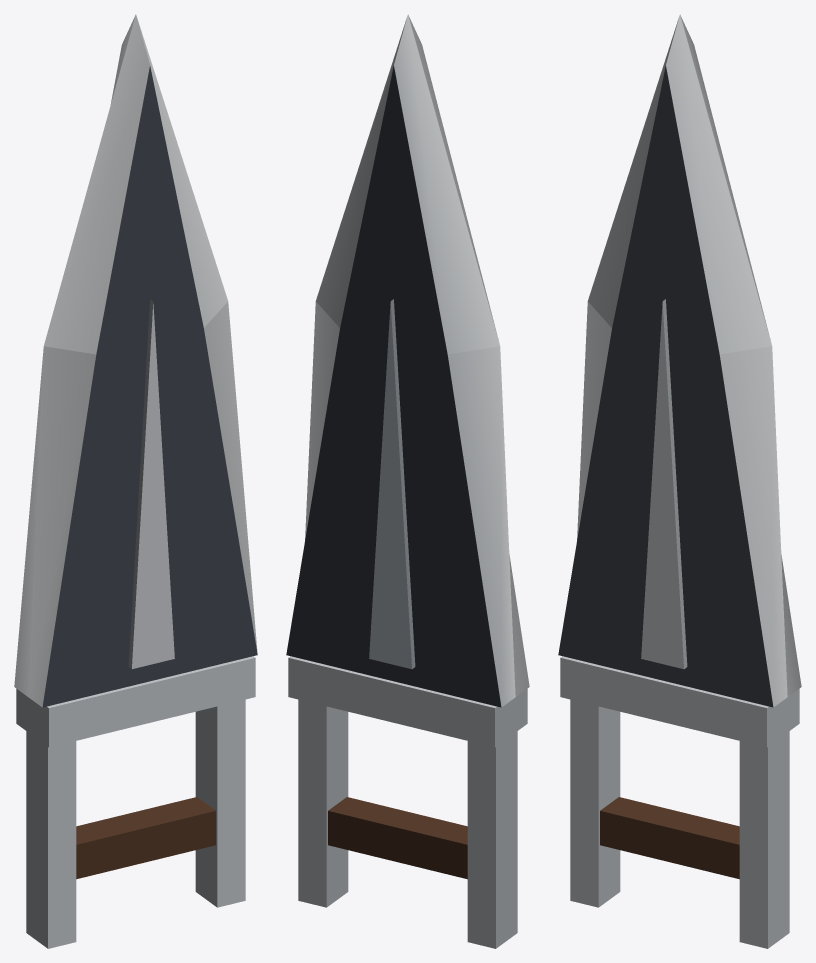
The model's file is rogue_katars_2.gltf.
3 renders of one model, left to right at view 1: azimuth 30°, elevation 25°; view 2: azimuth 150°, elevation 25°; view 3: azimuth 330°, elevation 25°, orthographic.
Parts seen in each view (by area): view 1: rogue_katars_2; view 2: rogue_katars_2; view 3: rogue_katars_2.
Part boxes in pixels (x1=…): rogue_katars_2: x1=14, y1=14, x2=257, y2=948; rogue_katars_2: x1=286, y1=14, x2=529, y2=948; rogue_katars_2: x1=558, y1=14, x2=801, y2=948.
Bounding box in the file's own units: 0.229 × 0.918 × 0.064.
1 material, 1 textured.
